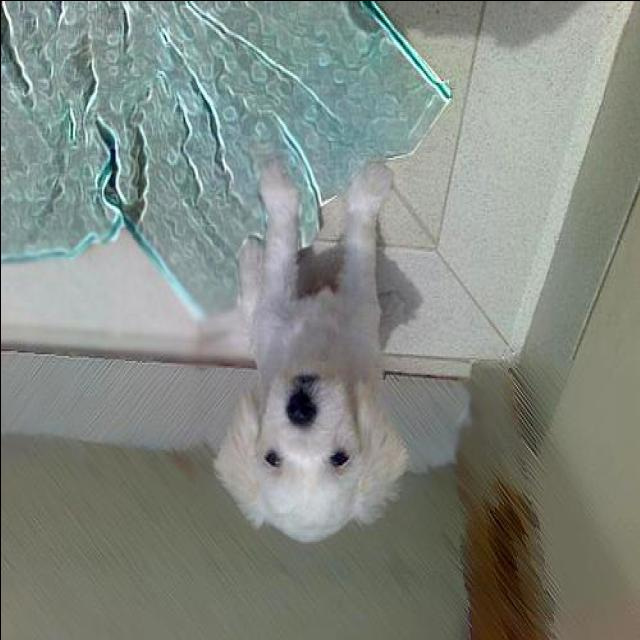maltese_dog: (211, 156, 412, 544)
